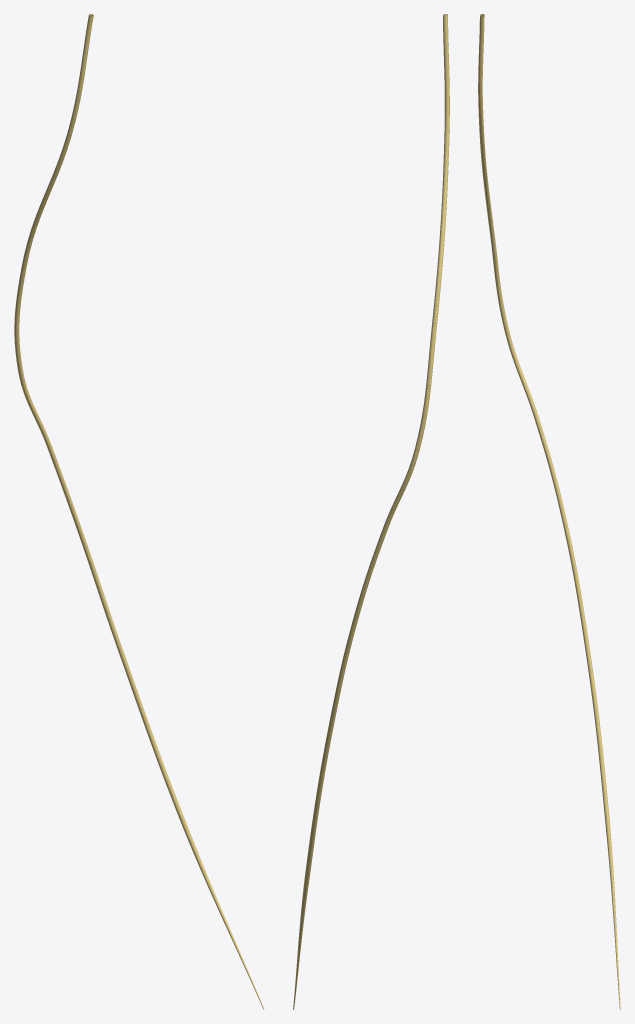
3 renders of one model, left to right at view 1: azimuth 30°, elevation 25°; view 2: azimuth 150°, elevation 25°; view 3: azimuth 330°, elevation 25°, orthographic. The views are drawn at different scales.
Parts seen in each view (by area): view 1: ZA_c7c03ab1a41875b5; view 2: ZA_c7c03ab1a41875b5; view 3: ZA_c7c03ab1a41875b5.
Part boxes in pixels (x1,y1,x2,y2): ZA_c7c03ab1a41875b5: [14, 14, 264, 1009]; ZA_c7c03ab1a41875b5: [293, 14, 449, 1009]; ZA_c7c03ab1a41875b5: [478, 14, 620, 1009].
Bounding box in the file's own units: 0.0445 × 0.2268 × 0.0256.
